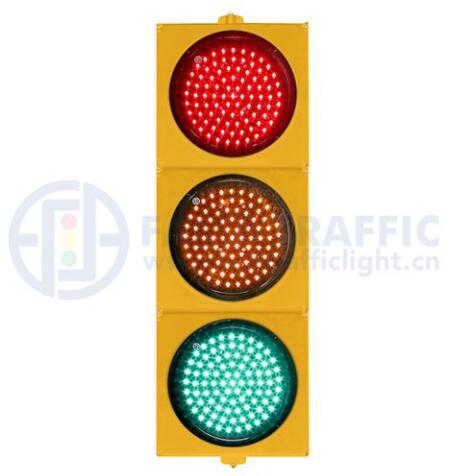TraficLight: (145, 7, 325, 469)
